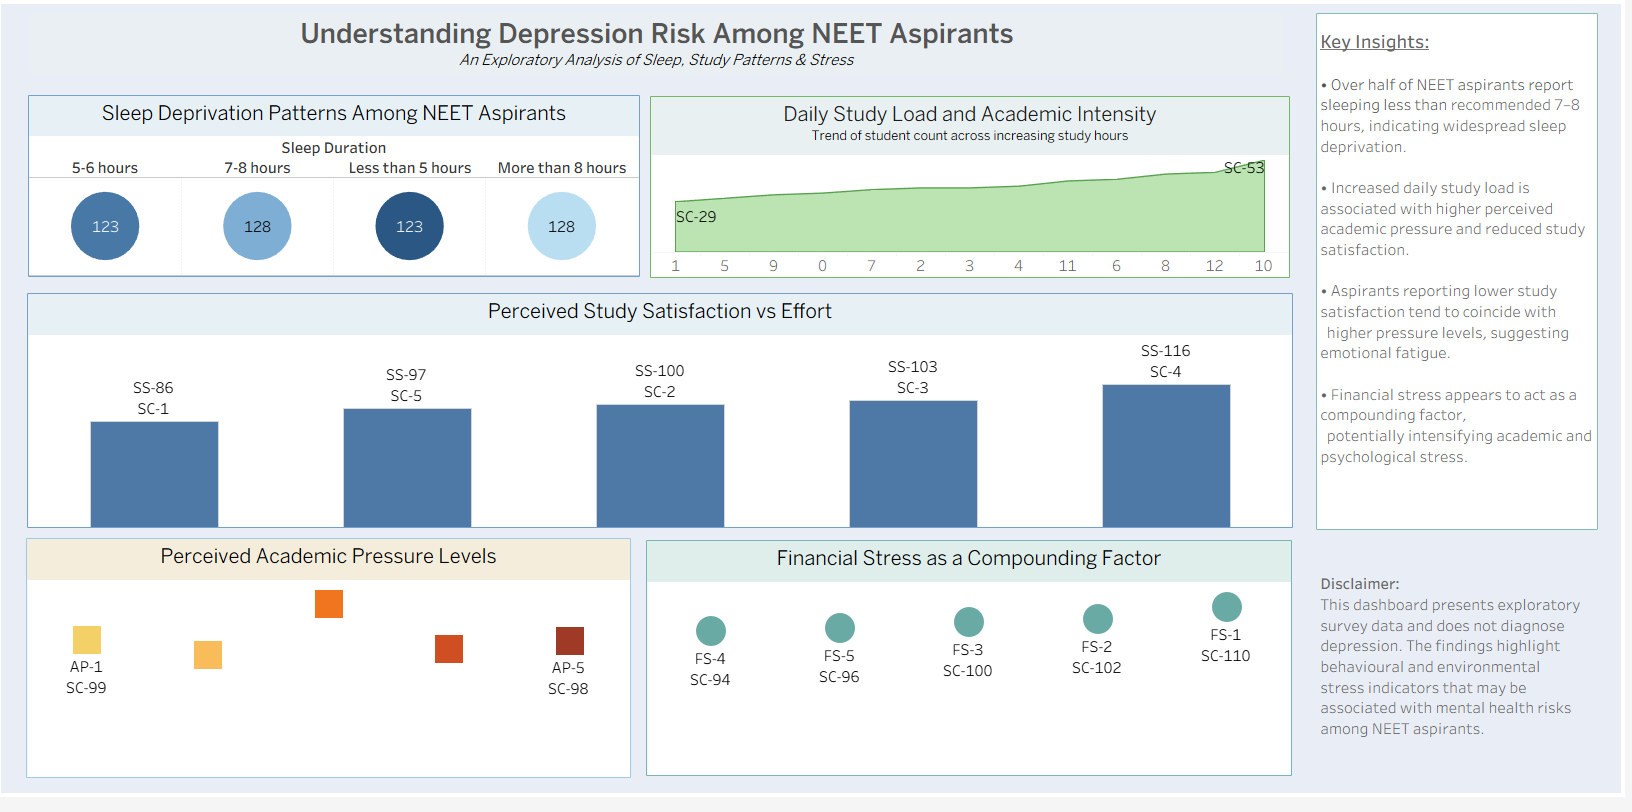

The dashboard page shown, as its layout file describes it:
{"tool":"tableau","page":{"name":"Student Count Analysis ","canvas":[1000,1000],"units":"permille","ordinal":0},"visuals":[{"type":"blank","box":[0,0,1000,1000]},{"type":"text","box":[18.4,11.3,774,87.8]},{"type":"text","box":[810.2,16.3,173.2,648.7]},{"type":"worksheet","title":"SD & SC","mark":"Pie","cols":["sleep_duration"],"box":[19,119.2,375.9,228.4]},{"type":"worksheet","title":"SH & SC","mark":"Area","rows":["index_column"],"cols":["study_hours"],"box":[401.1,120.5,393.1,228.4]},{"type":"worksheet","title":"SS & SC","mark":"Bar","rows":["index_column"],"cols":["study_satisfaction"],"box":[18.4,367.6,777.6,294.9]},{"type":"worksheet","title":"AP & SC","mark":"Square","rows":["index_column"],"cols":["academic_pressure"],"box":[17.8,675,371.6,301.1]},{"type":"text","box":[810.8,676.3,173.2,296.1]},{"type":"worksheet","title":"FS & SC","mark":"Circle","rows":["index_column"],"cols":["financial_stress"],"box":[398.7,677.5,396.8,296.1]}]}

Visuals, with their boxes on the dashboard's canvas, which has no fixed pixel size, in thousandths of its width and height (x1, y1, x2, y2). These are canvas units, not pixel positions in the 1632x812 screenshot, which may show the page scaled, cropped or inside an application window:
blank: [left=0, top=0, right=1000, bottom=1000]
text: [left=18, top=11, right=792, bottom=99]
text: [left=810, top=16, right=983, bottom=665]
"SD & SC" worksheet (Pie marks): [left=19, top=119, right=395, bottom=348]
"SH & SC" worksheet (Area marks): [left=401, top=120, right=794, bottom=349]
"SS & SC" worksheet (Bar marks): [left=18, top=368, right=796, bottom=662]
"AP & SC" worksheet (Square marks): [left=18, top=675, right=389, bottom=976]
text: [left=811, top=676, right=984, bottom=972]
"FS & SC" worksheet (Circle marks): [left=399, top=678, right=796, bottom=974]
